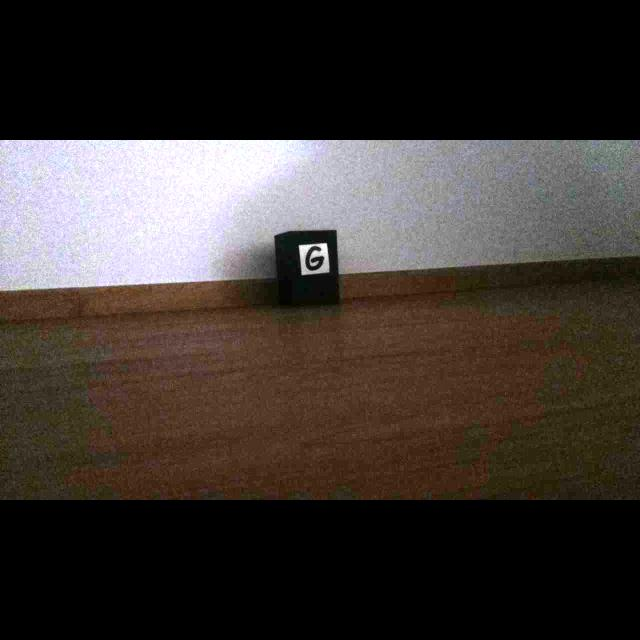G: (305, 246, 324, 270)
